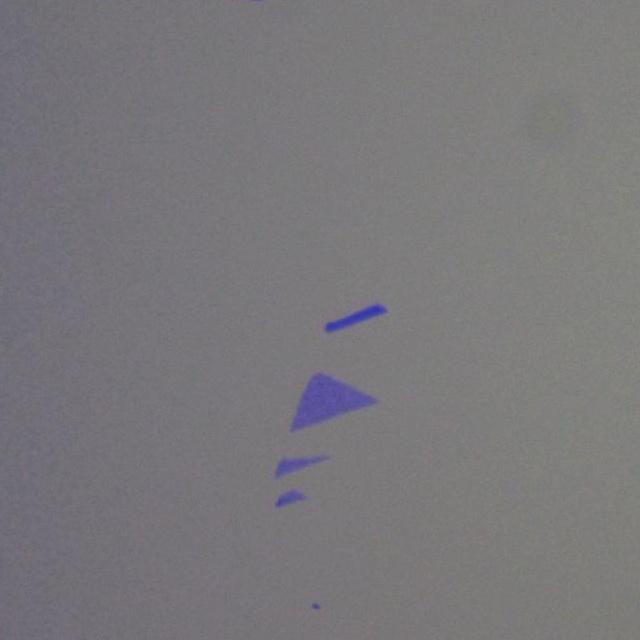monolayer-eWW4: (291, 367, 378, 432), (275, 452, 331, 484), (280, 489, 304, 506)
